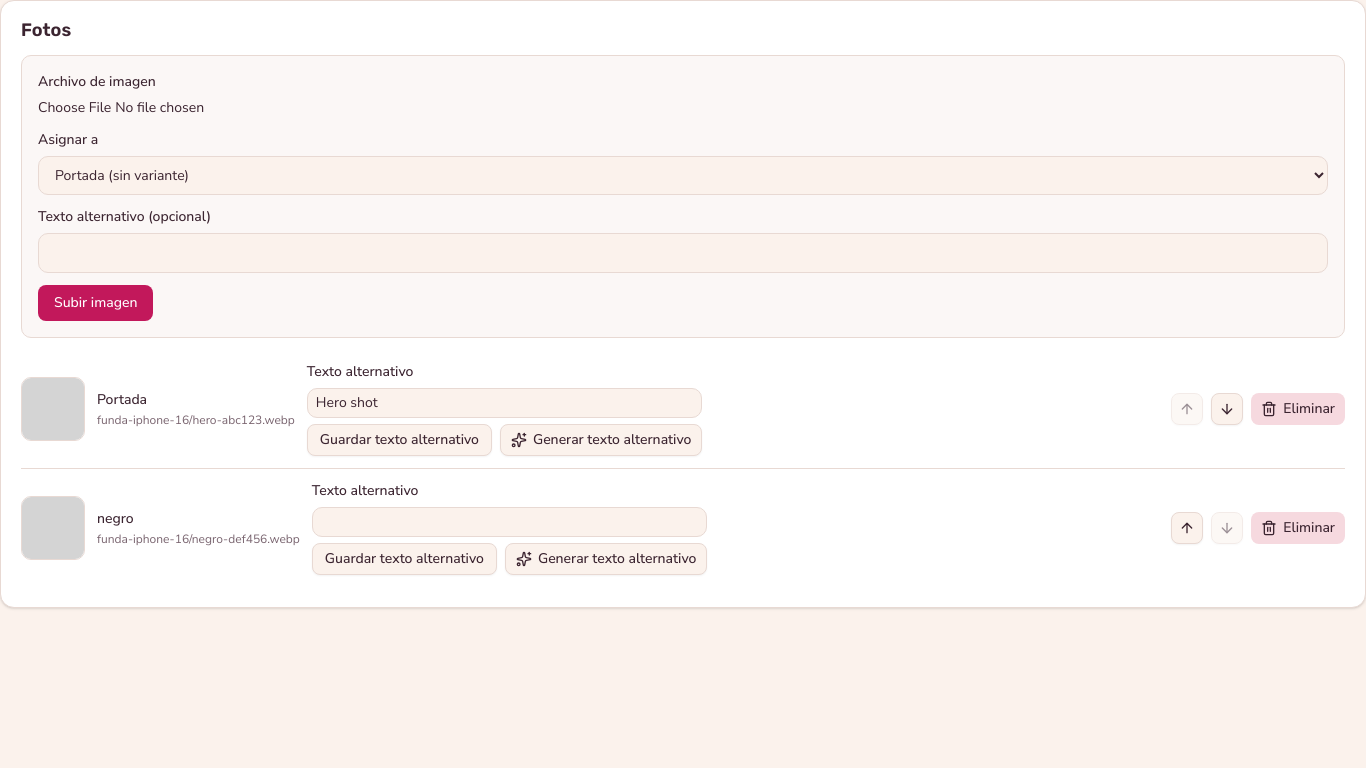
it: ImageManager › surfaces a Generate alt text failure via role=alert without refreshing
The width and height of the screenshot is (1366, 768).
Click the button "Generar texto alternativo" in the row of "funda-iphone-16/hero-abc123.webp". click: (601,440)
box: left=500, top=424, right=702, bottom=456
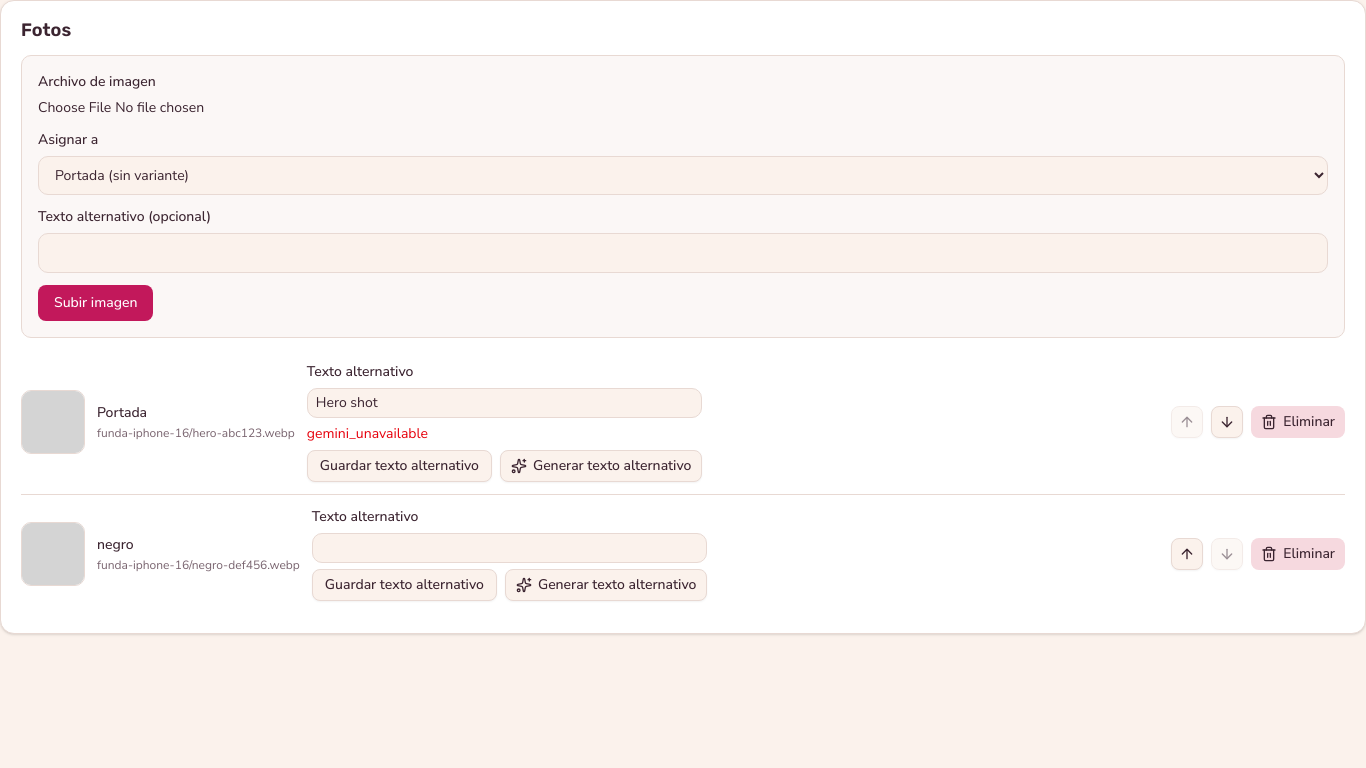
Expected: the message reads "gemini_unavailable", left=307, top=424, right=428, bottom=443
